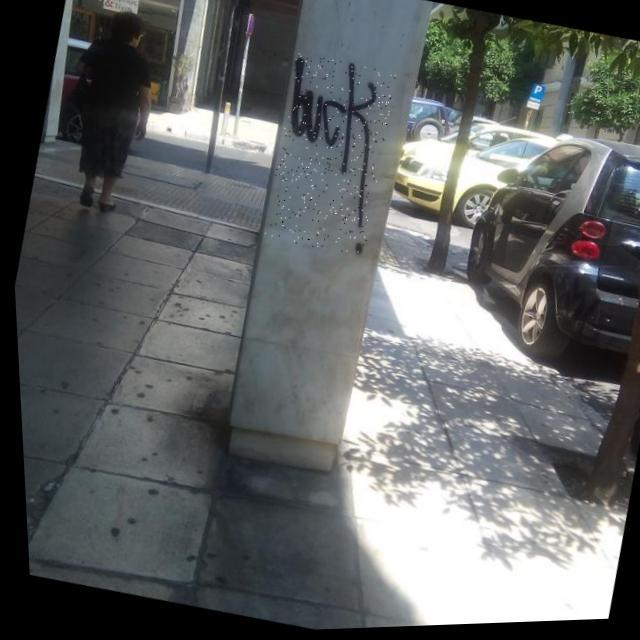-: (253, 52, 402, 262)
